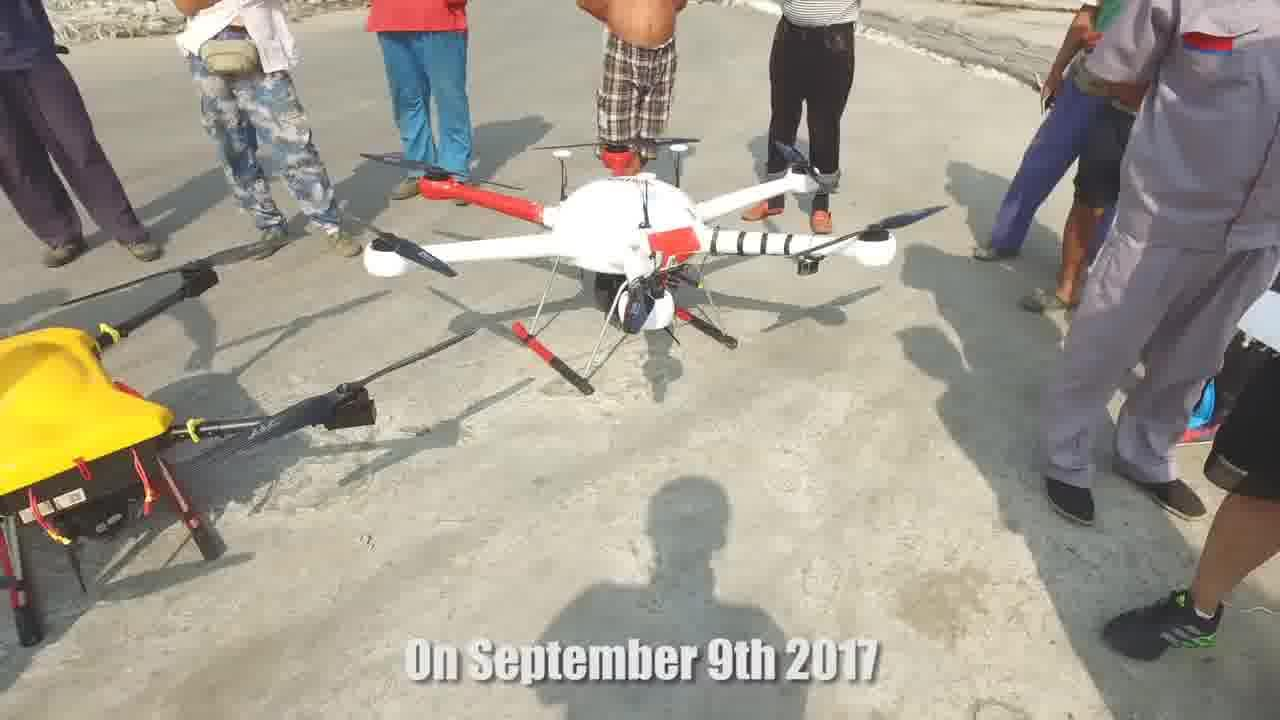drone: (345, 136, 923, 389)
